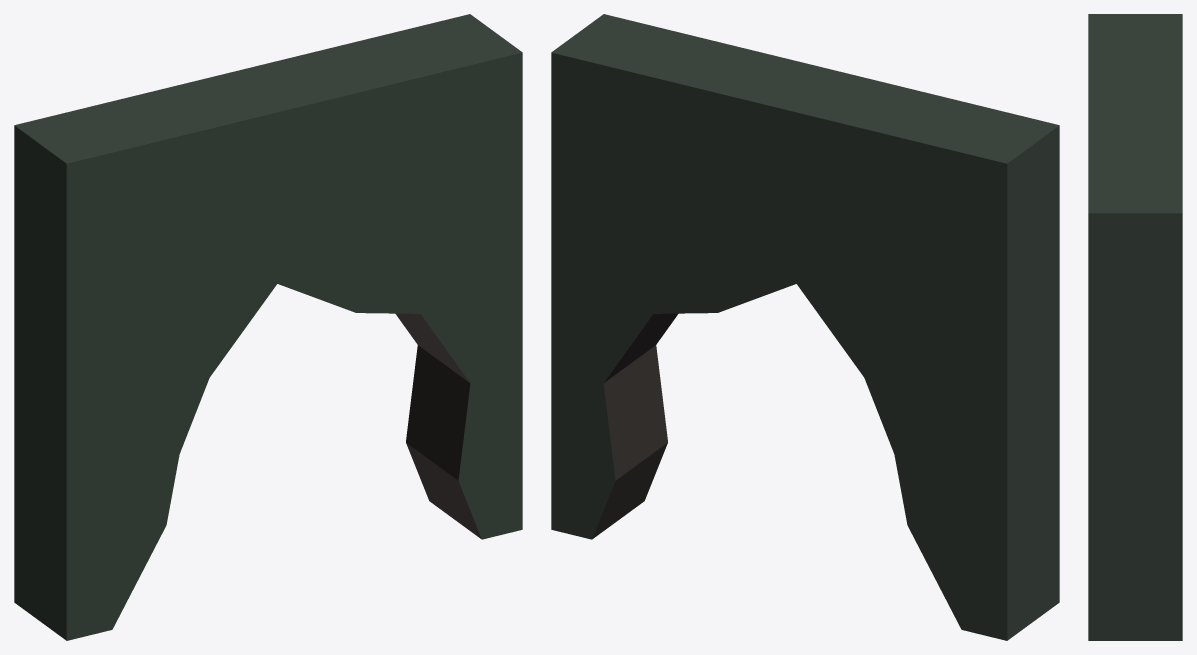
The model's file is SM_WallFlat_DamageEntrace.fbx.
3 renders of one model, left to right at view 1: azimuth 30°, elevation 25°; view 2: azimuth 150°, elevation 25°; view 3: azimuth 270°, elevation 25°, orthographic. The views are drawn at different scales.
Parts seen in each view (by area): view 1: SM_WallFlat_DamageEntrace; view 2: SM_WallFlat_DamageEntrace; view 3: SM_WallFlat_DamageEntrace.
Boxes of the visible parts, <box> form: SM_WallFlat_DamageEntrace: <box>14,14,522,640</box>; SM_WallFlat_DamageEntrace: <box>551,14,1059,640</box>; SM_WallFlat_DamageEntrace: <box>1088,14,1182,640</box>.
Size of the model in its own units: 500 by 500 by 100.
Materials: 1 (1 with a texture image).
